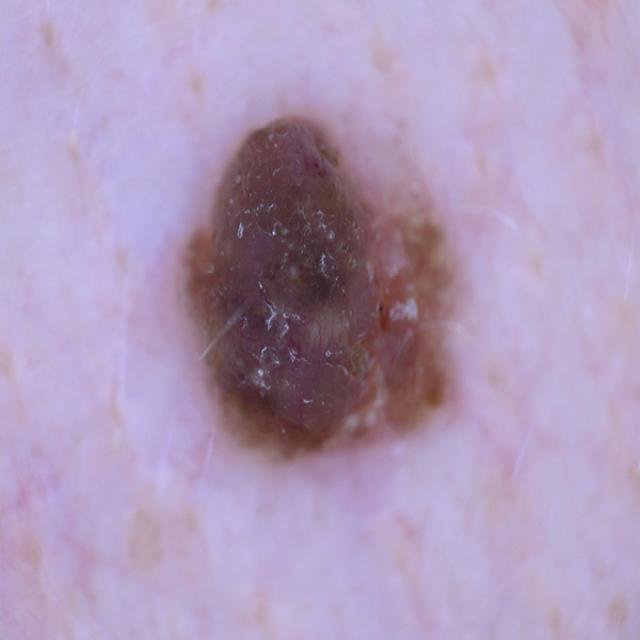Skin-Cancer Pigmented benign keratosis: (90, 48, 571, 600)
